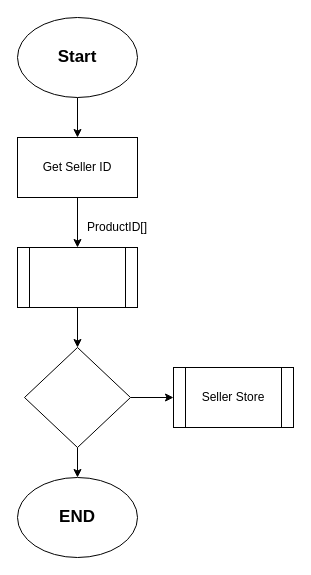
Image size: 311x575. Some labels were removed from this diagram. The centre of each missing label's shape, as x and y in pixels:
"Product List" belongs at (x=77, y=277).
"Visit Store" belongs at (x=77, y=397).
